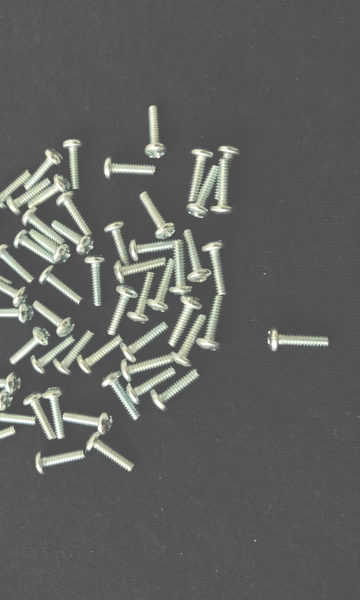shortscrew: (151, 369, 201, 412), (86, 431, 135, 473), (101, 371, 141, 421), (168, 295, 204, 349), (38, 264, 85, 305), (172, 314, 208, 367), (127, 367, 177, 405), (77, 335, 124, 375), (185, 164, 219, 219), (140, 191, 177, 241), (30, 335, 76, 375), (54, 330, 94, 376), (9, 326, 52, 366), (24, 148, 64, 191), (7, 178, 52, 216), (267, 326, 330, 353), (21, 209, 66, 246), (197, 295, 226, 352), (23, 392, 56, 442), (108, 284, 139, 337), (210, 158, 238, 216), (183, 229, 213, 283), (147, 258, 176, 313), (113, 256, 168, 285), (188, 146, 217, 201), (13, 229, 58, 264), (127, 272, 157, 324), (202, 239, 229, 296), (29, 229, 72, 264), (168, 239, 194, 295), (0, 244, 35, 284), (35, 450, 86, 476), (42, 387, 67, 440), (105, 219, 132, 265), (0, 170, 31, 210), (63, 411, 112, 436), (130, 237, 177, 263), (84, 254, 107, 307), (145, 106, 167, 159), (62, 140, 85, 190), (103, 160, 158, 180), (0, 273, 29, 309), (0, 406, 38, 428), (0, 304, 35, 324), (0, 425, 18, 456), (0, 373, 22, 395), (0, 387, 14, 412)
